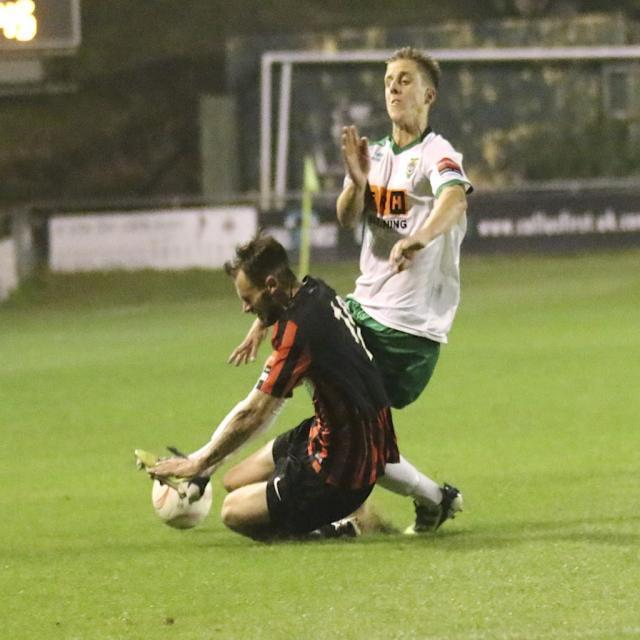football: (136, 455, 222, 535)
